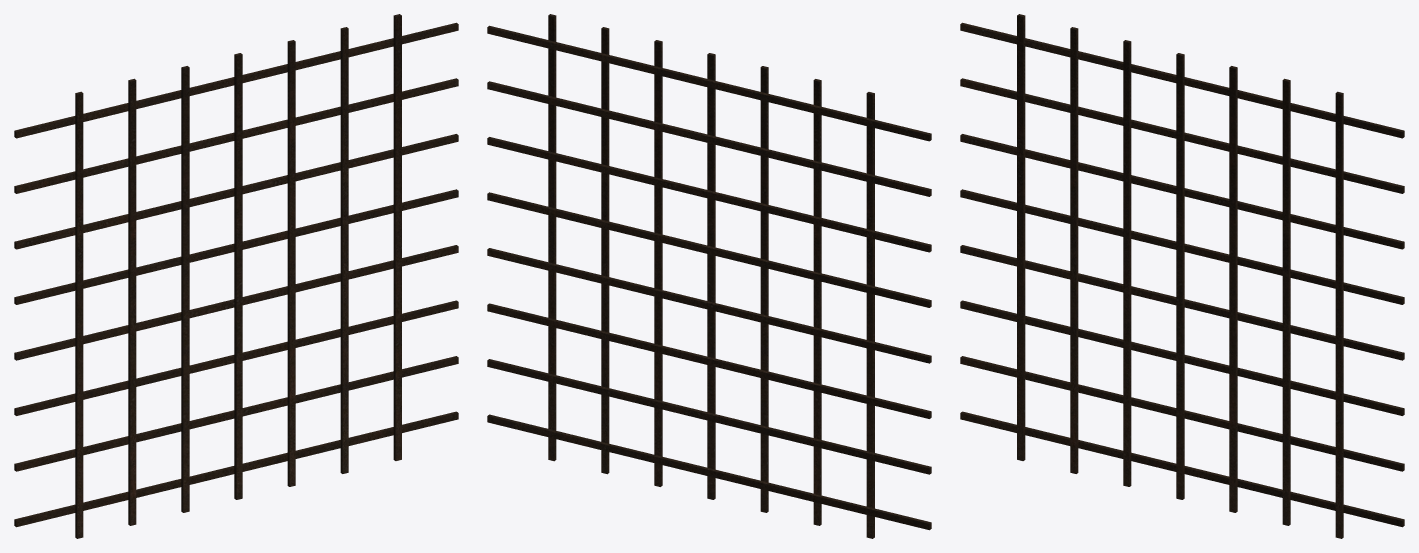
Rendered from bars_metal_2.obj.
3 renders of one model, left to right at view 1: azimuth 30°, elevation 25°; view 2: azimuth 150°, elevation 25°; view 3: azimuth 330°, elevation 25°, orthographic.
Parts seen in each view (by area): view 1: bars_metal_2; view 2: bars_metal_2; view 3: bars_metal_2.
Boxes of the visible parts, left/top/right/bottom form: bars_metal_2: left=14, top=14, right=458, bottom=538; bars_metal_2: left=487, top=14, right=931, bottom=538; bars_metal_2: left=960, top=14, right=1404, bottom=538.
Size of the model in its own units: 2.5 by 2.4 by 0.04.
